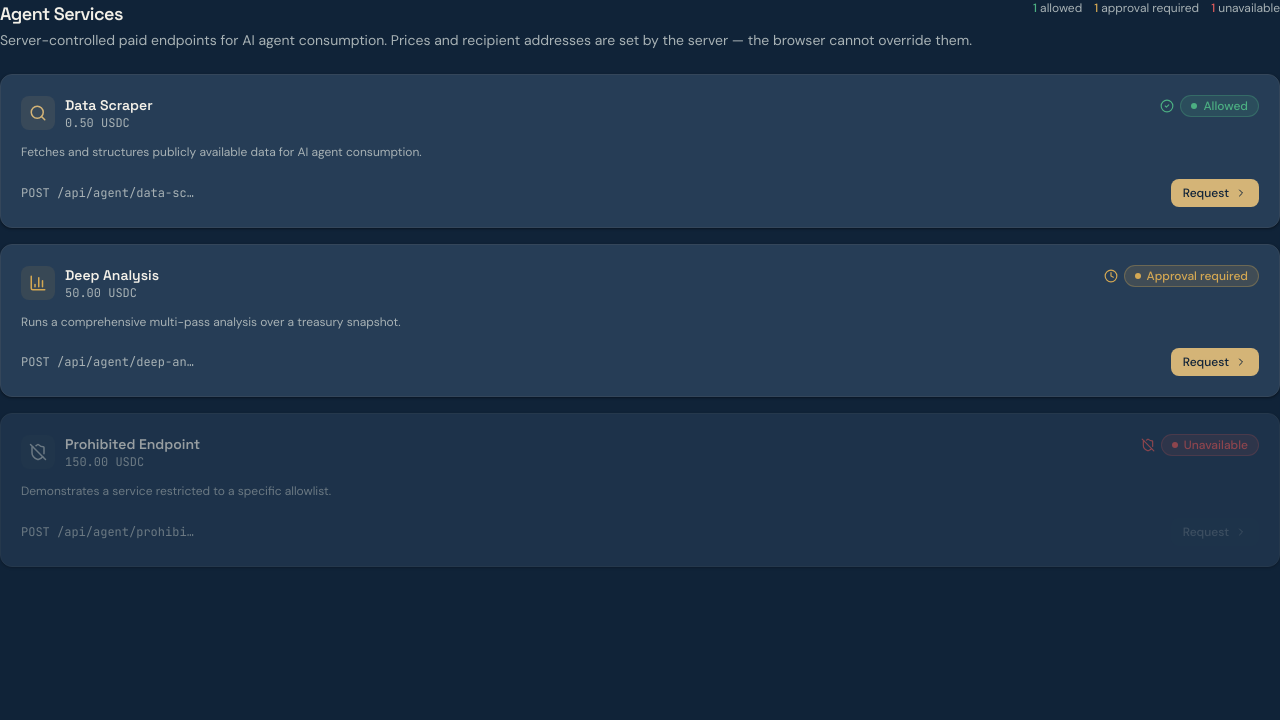
Scenario: RecommendationPanel — AI verdict display › shows AI warnings list when warnings are present
Click the button with test id "service-card-data-scraper": (640, 151) x1=0 y1=74 x2=1279 y2=228
(page scrolled)
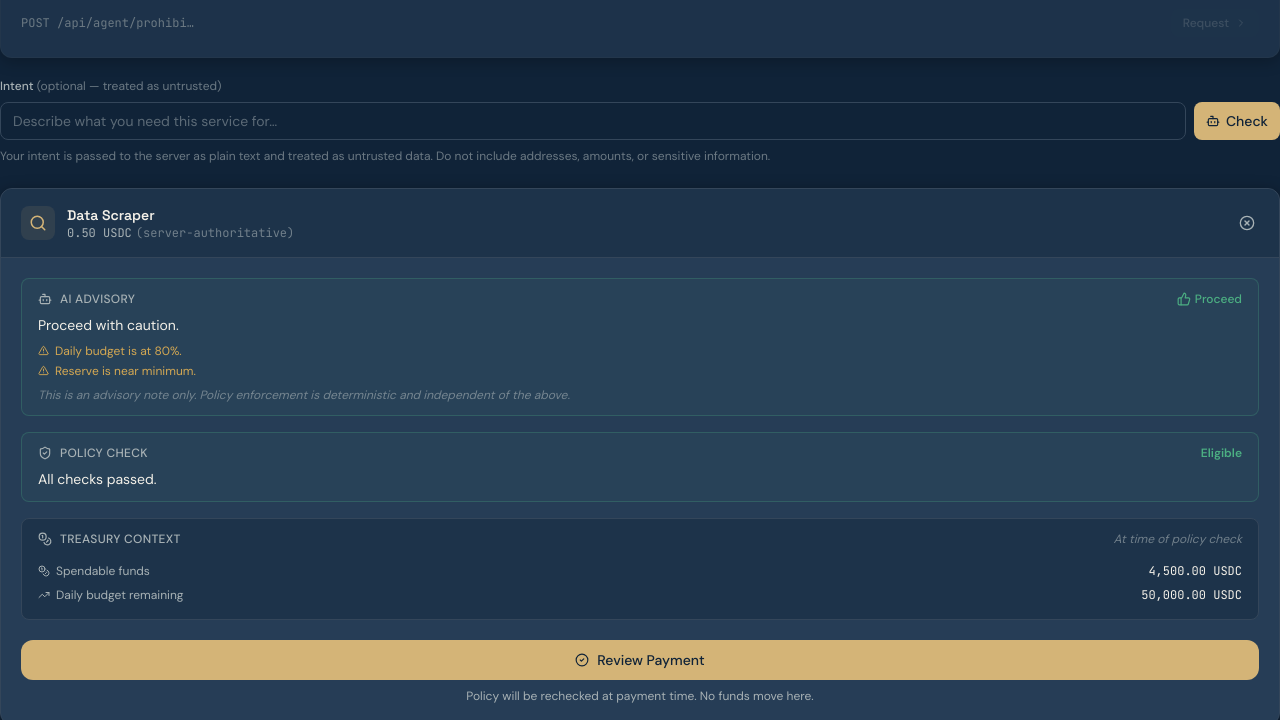
Expected: the list with test id "rec-ai-warnings" shows "Daily budget is at 80%", x1=55 y1=342 x2=182 y2=358
Expected: the list with test id "rec-ai-warnings" shows "Reserve is near minimum", x1=55 y1=362 x2=196 y2=378
